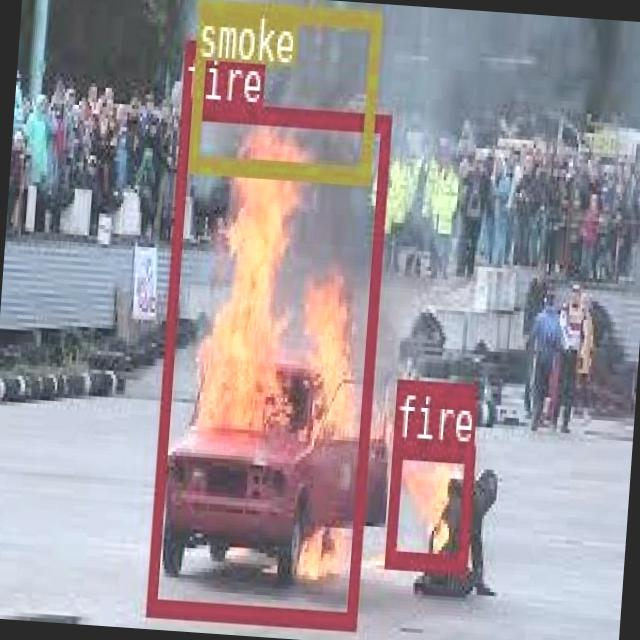fire: (144, 96, 390, 626), (382, 437, 472, 570)
smoke: (186, 0, 379, 181)
